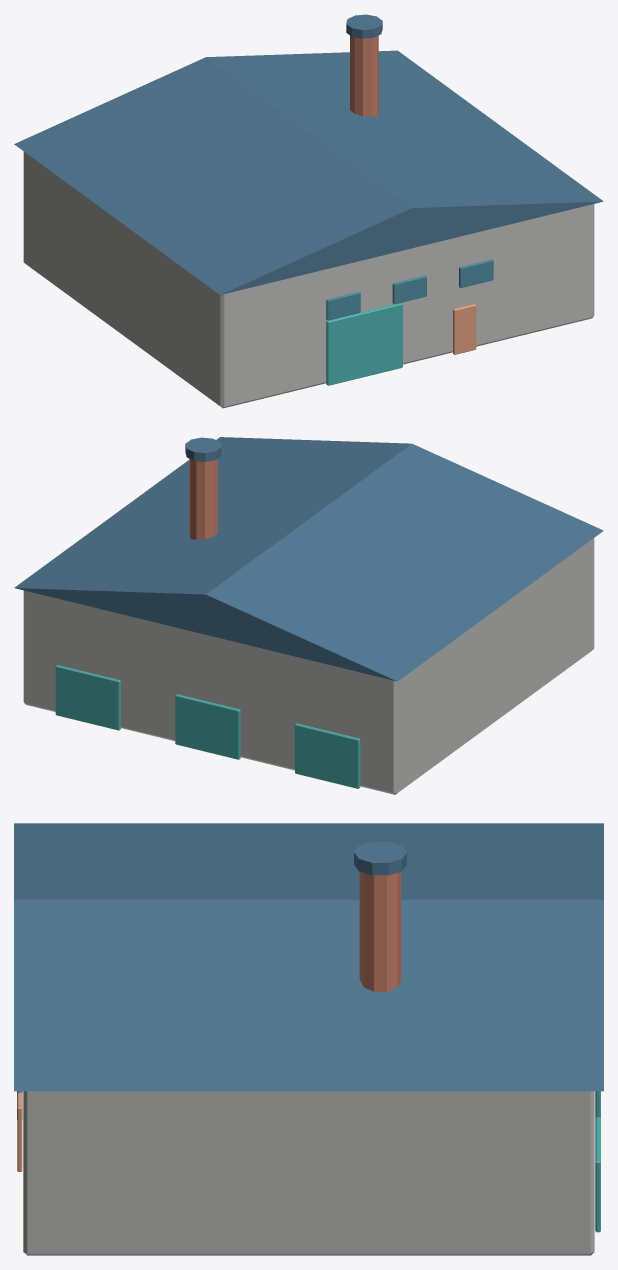
File: IND_MID_3x3_003.glb
3 renders of one model, top to bottom at view 1: azimuth 30°, elevation 25°; view 2: azimuth 150°, elevation 25°; view 3: azimuth 270°, elevation 25°, orthographic. The views are drawn at different scales.
Visible parts, largest first — view 1: IND_MID_3x3_003_Visual; view 2: IND_MID_3x3_003_Visual; view 3: IND_MID_3x3_003_Visual.
Part boxes in pixels (x1,y1,x2,y2): IND_MID_3x3_003_Visual: (14, 14, 603, 408); IND_MID_3x3_003_Visual: (14, 437, 603, 794); IND_MID_3x3_003_Visual: (14, 823, 603, 1255).
Size of what is drawn, in the model's own units: 5.49 by 3.16 by 5.11.
